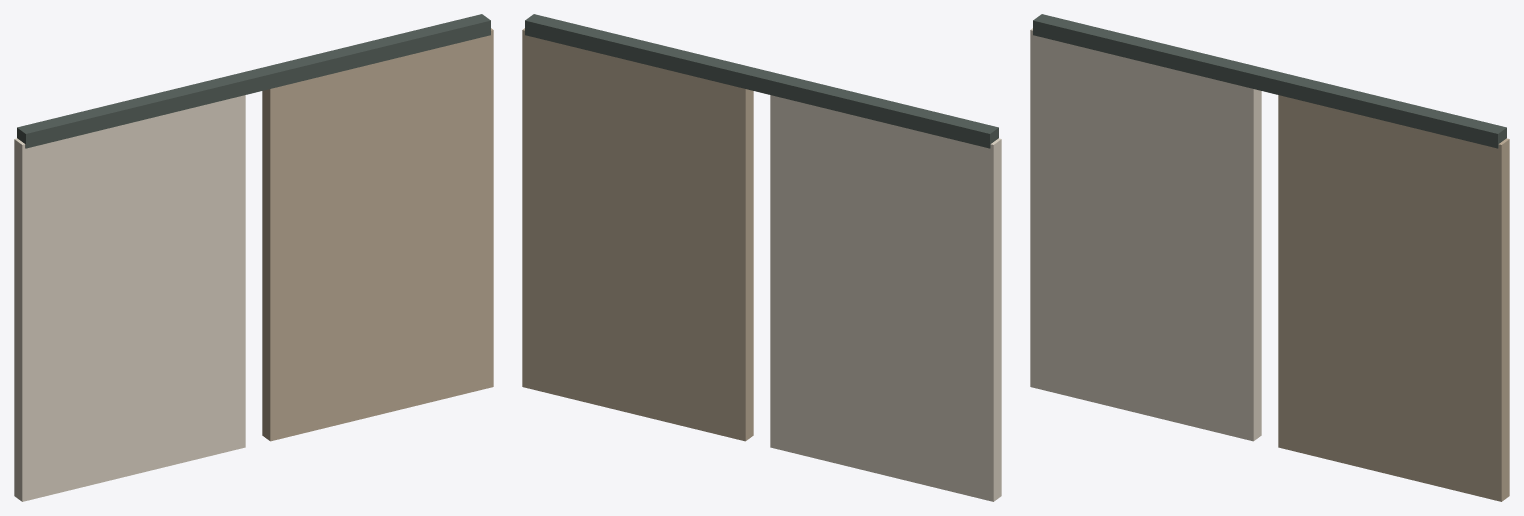
3 renders of one model, left to right at view 1: azimuth 30°, elevation 25°; view 2: azimuth 150°, elevation 25°; view 3: azimuth 330°, elevation 25°, orthographic.
Visible parts, largest first — view 1: cover-left, cover-right, cover-rail; view 2: cover-left, cover-right, cover-rail; view 3: cover-right, cover-left, cover-rail.
Part boxes in pixels (bbox=[...]): cover-left: bbox=[14, 95, 245, 501]; cover-right: bbox=[262, 28, 493, 441]; cover-rail: bbox=[17, 14, 490, 148]; cover-left: bbox=[770, 95, 1001, 501]; cover-right: bbox=[522, 28, 753, 441]; cover-rail: bbox=[525, 14, 998, 148]; cover-right: bbox=[1278, 95, 1509, 501]; cover-left: bbox=[1030, 28, 1261, 441]; cover-rail: bbox=[1033, 14, 1506, 148].
Size of the model in its own units: 1.52 by 1.13 by 0.05.
